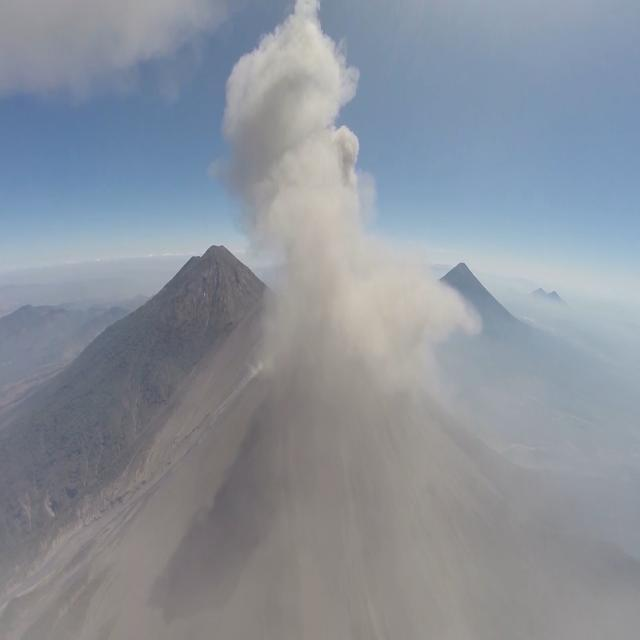Plume: (220, 1, 508, 477)
